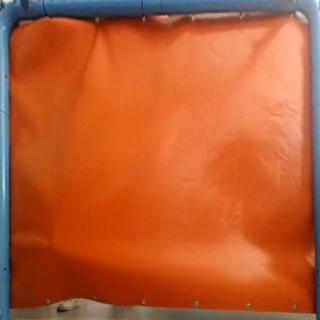Hit-hRxx: (49, 237, 66, 253)
